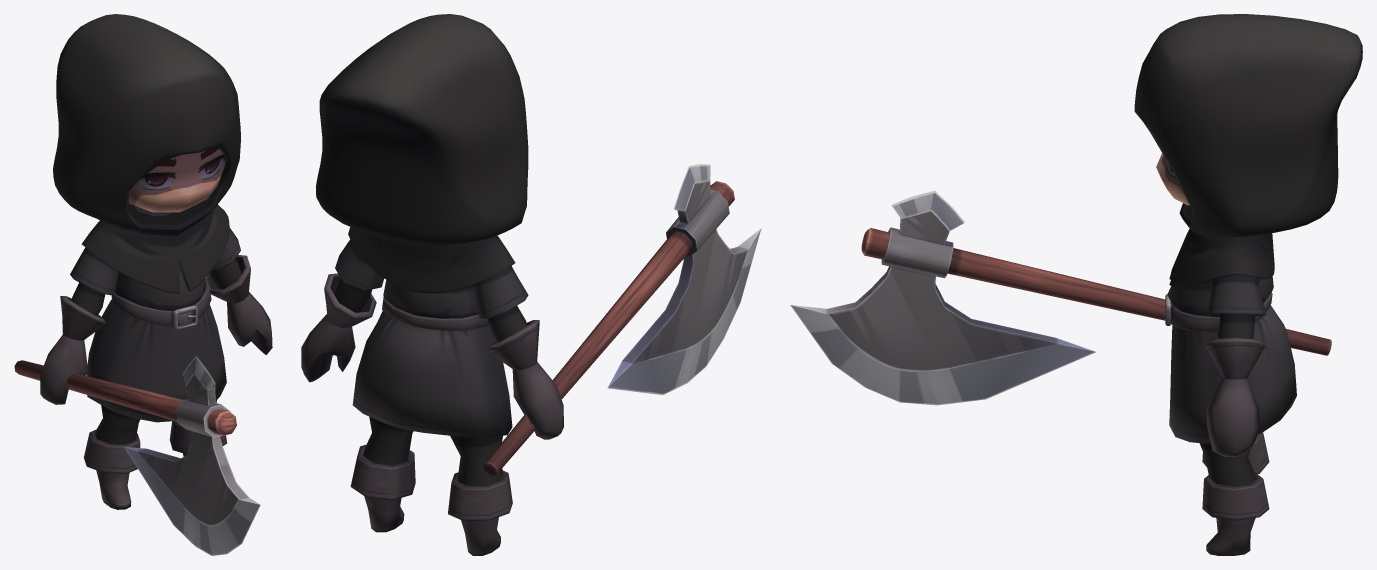
File: executioner.fbx
3 views of the same model, side by side, from view 1: azimuth 30°, elevation 25°; view 2: azimuth 150°, elevation 25°; view 3: azimuth 270°, elevation 25° (orthographic). The views are drawn at different scales.
Visible parts, largest first — view 1: executioner, executioner_weapon; view 2: executioner, executioner_weapon; view 3: executioner, executioner_weapon.
Boxes of the visible parts, x1,y1,x2,y2 form: executioner: (40, 14, 272, 509); executioner_weapon: (14, 356, 260, 555); executioner: (301, 14, 563, 555); executioner_weapon: (483, 163, 761, 476); executioner: (1134, 14, 1362, 555); executioner_weapon: (790, 190, 1331, 405).
Bounding box in the file's own units: 98.81 × 186 × 190.
